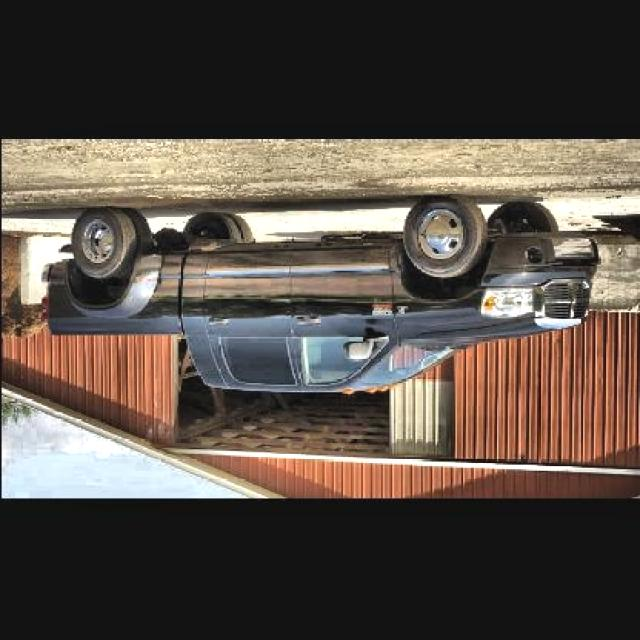black: (41, 189, 590, 410)
